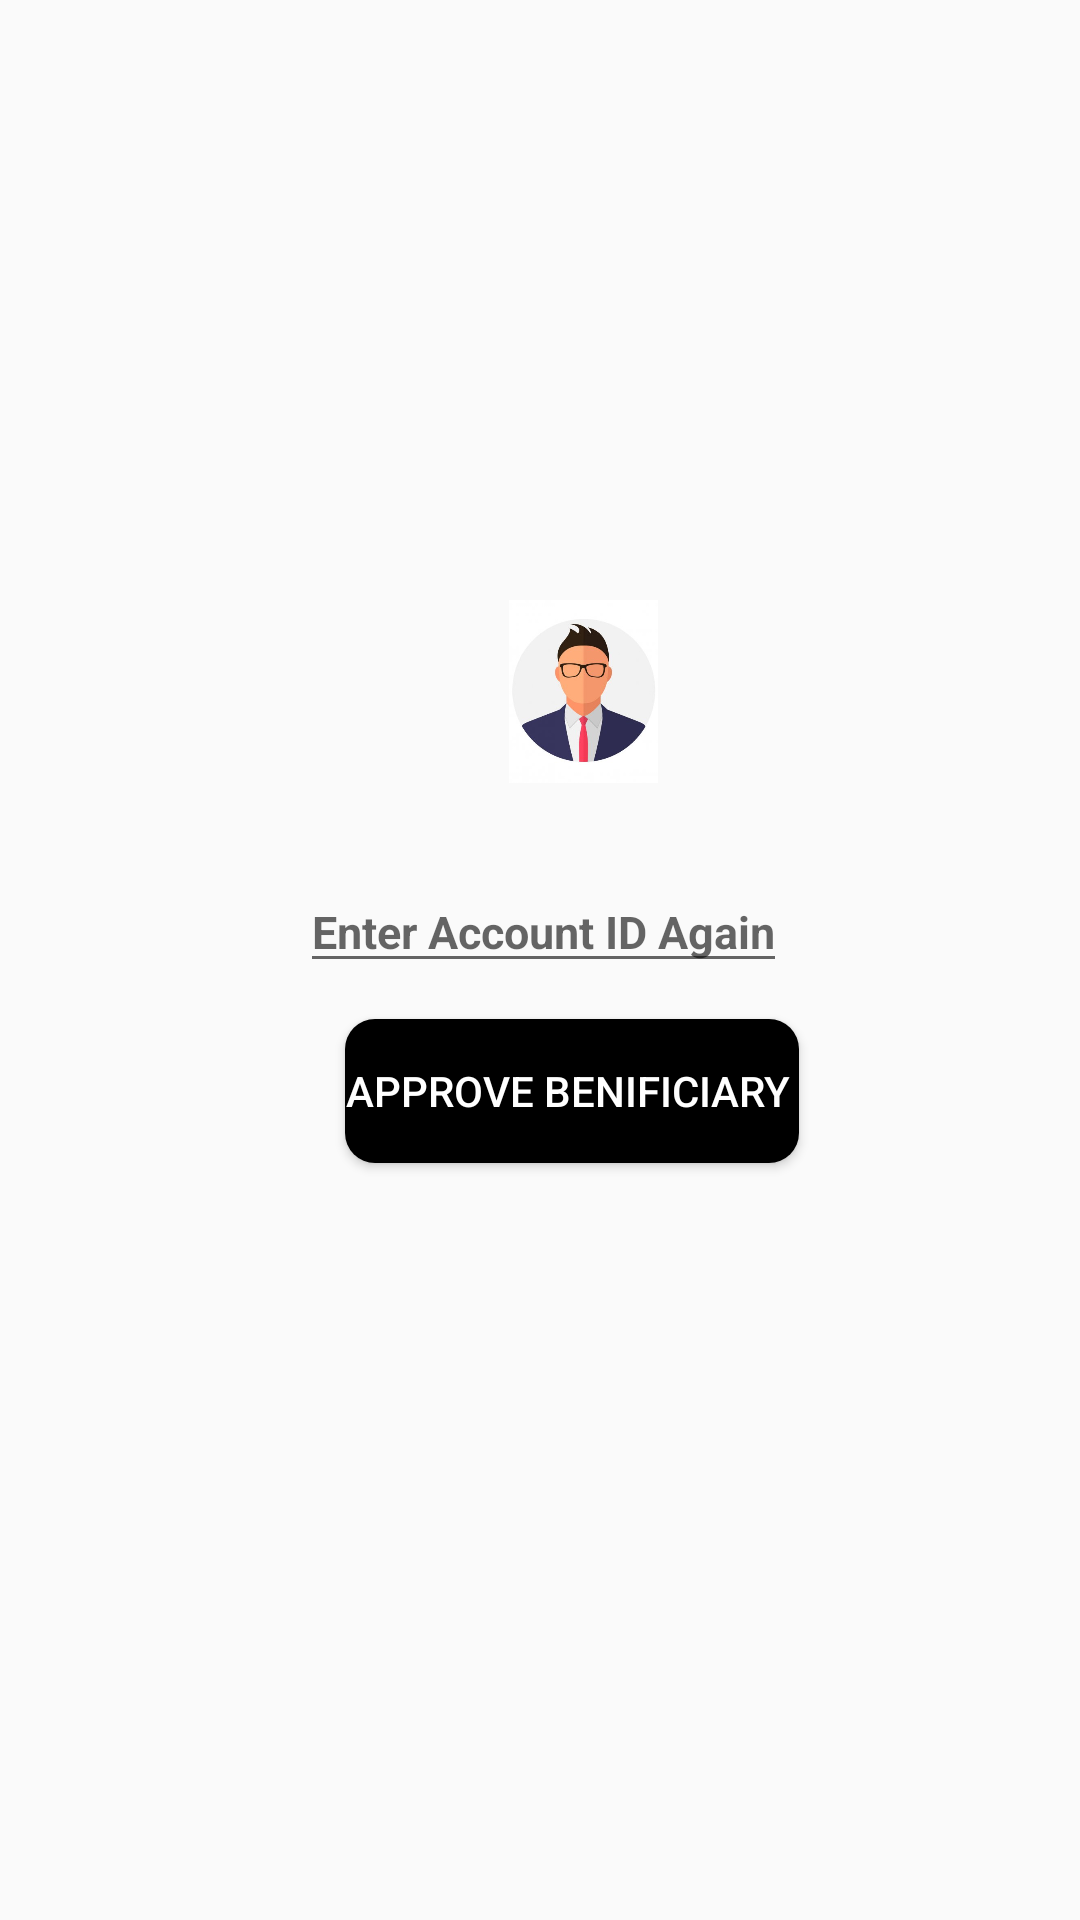

Named icons in this screenshot (1080×1920) and their bounding boxes, bbox(x1, y1, x2, y2):
person: bbox(512, 619, 655, 763)
